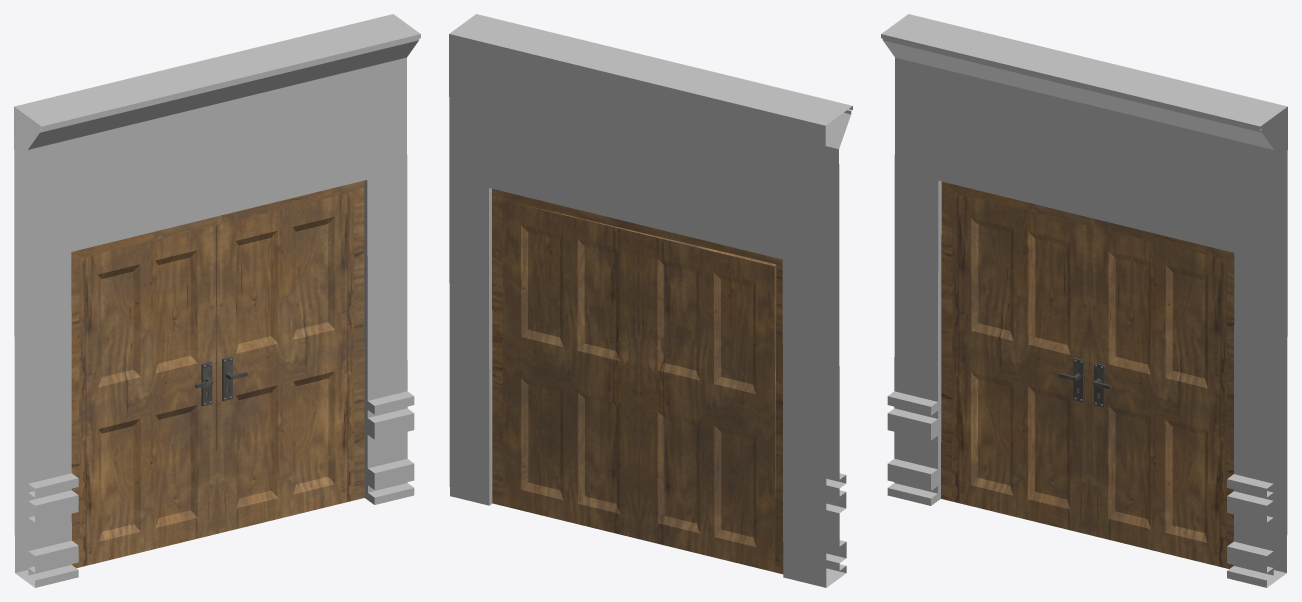
File: wall_with_big_door.fbx
3 views of the same model, side by side, from view 1: azimuth 30°, elevation 25°; view 2: azimuth 150°, elevation 25°; view 3: azimuth 330°, elevation 25° (orthographic).
Visible parts, largest first — view 1: wall.001, big_door_right, big_door_left, big_door_frame; view 2: wall.001, big_door_left, big_door_right, big_door_frame; view 3: wall.001, big_door_left, big_door_right, big_door_frame.
Boxes of the visible parts, <box> form: wall.001: <box>14,14,420,587</box>; big_door_right: <box>216,191,354,533</box>; big_door_left: <box>79,225,216,567</box>; big_door_frame: <box>71,180,364,568</box>; wall.001: <box>449,14,852,587</box>; big_door_left: <box>638,232,776,572</box>; big_door_right: <box>502,200,639,538</box>; big_door_frame: <box>492,188,783,574</box>; wall.001: <box>881,14,1287,587</box>; big_door_left: <box>952,192,1089,534</box>; big_door_right: <box>1089,226,1227,568</box>; big_door_frame: <box>941,181,1234,568</box>.
Bounding box in the file's own units: 240 × 282 × 30.07.
